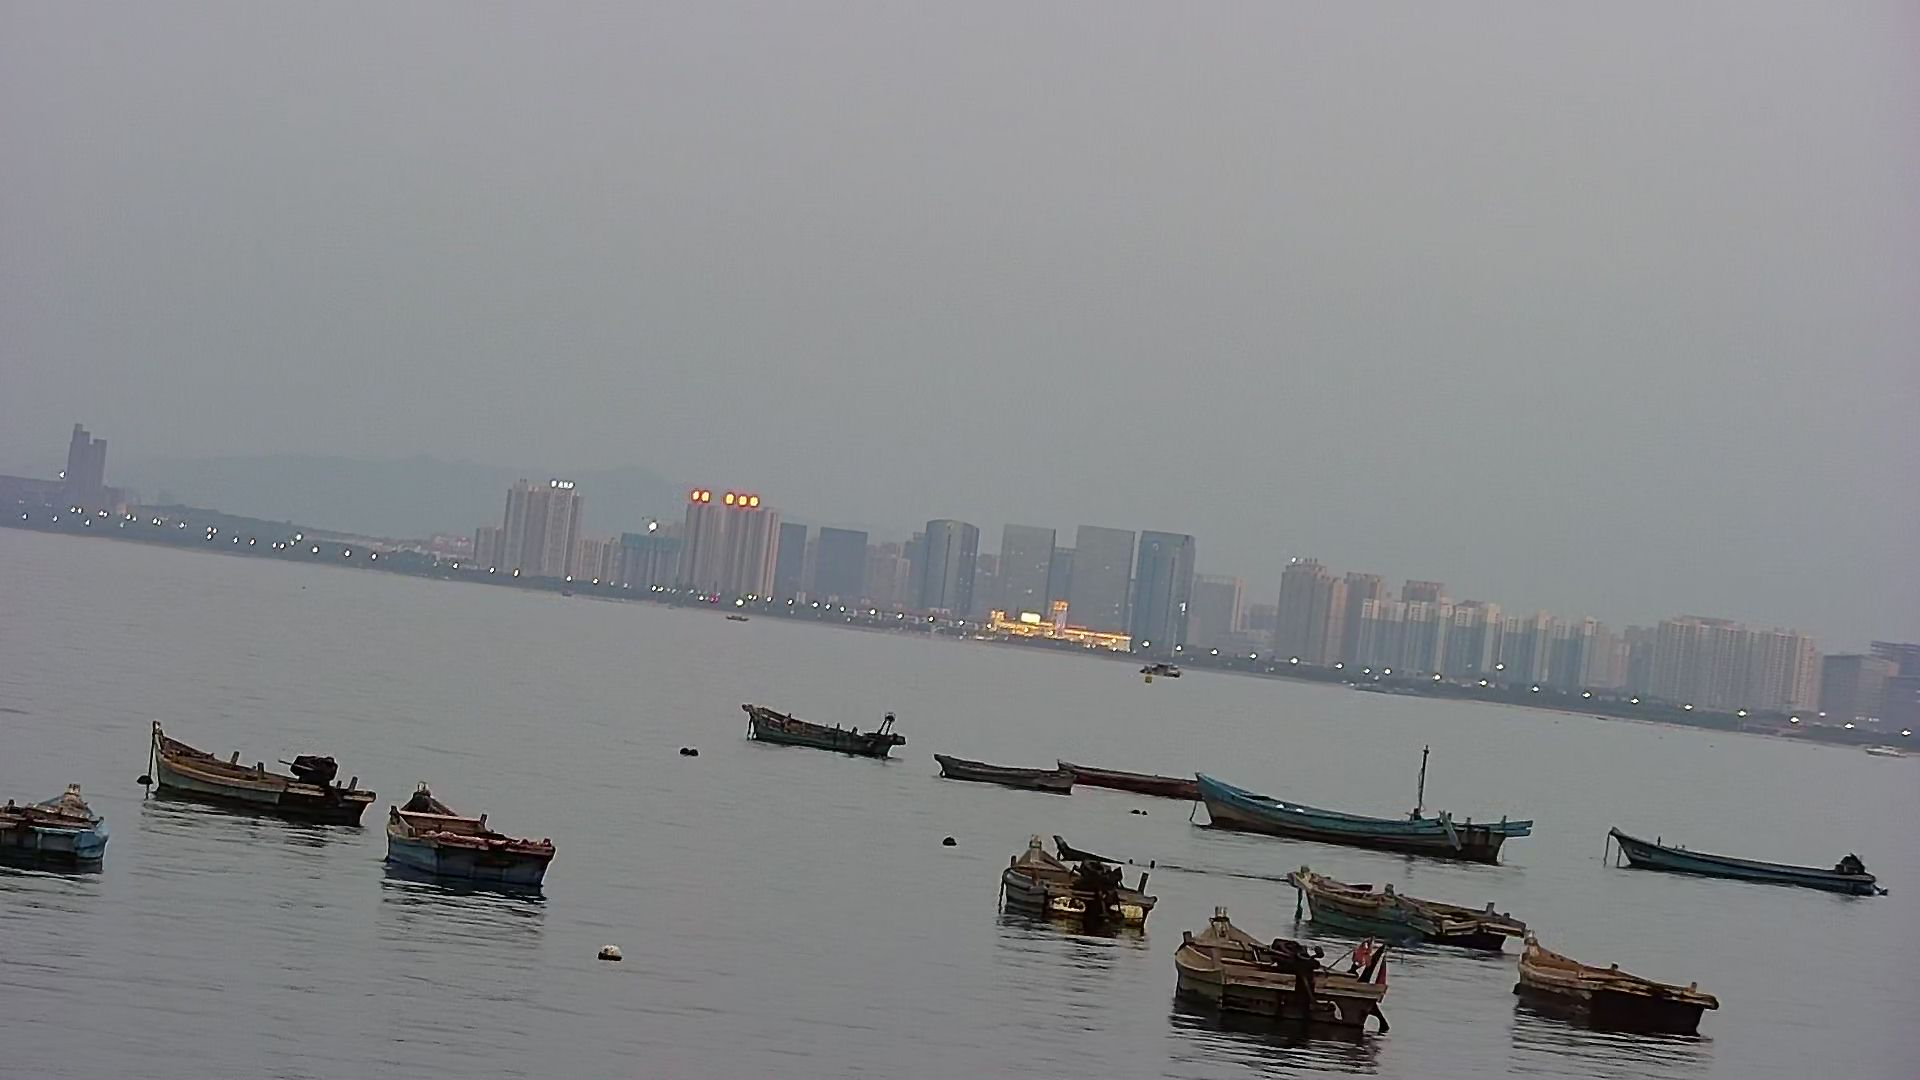ball: (583, 931, 637, 967)
boat: (1188, 757, 1536, 866), (1174, 913, 1393, 1033), (1286, 857, 1511, 973), (132, 724, 375, 825), (1604, 824, 1886, 898), (975, 837, 1162, 948), (375, 786, 578, 887), (1519, 931, 1716, 1029), (737, 680, 909, 773), (1, 783, 116, 884), (931, 736, 1077, 804)
